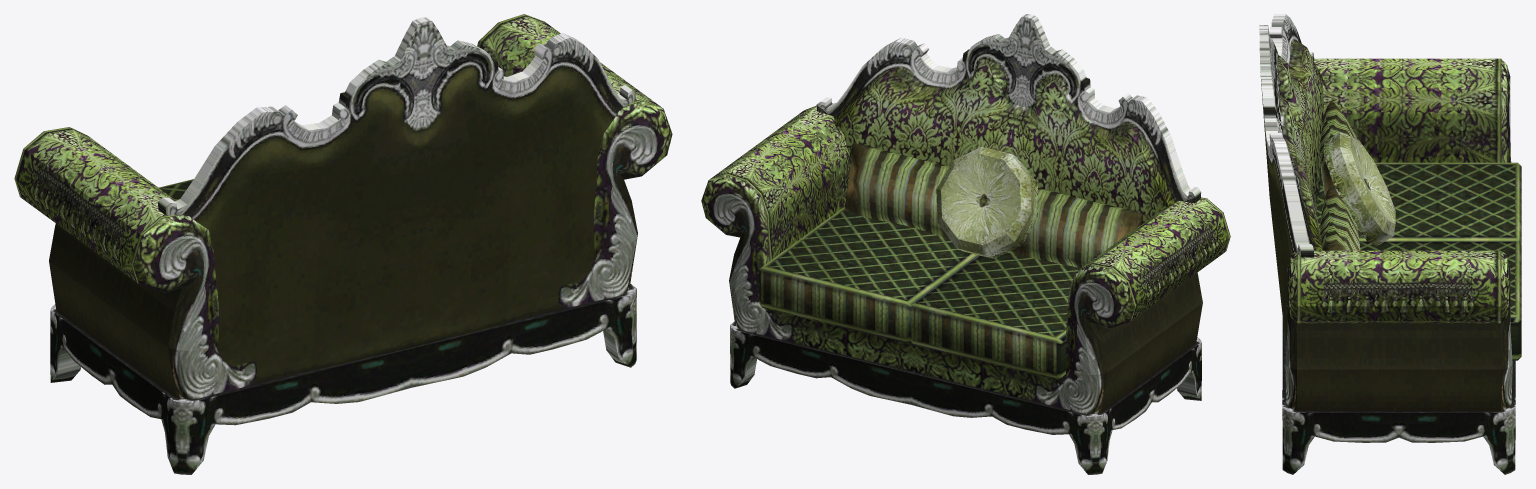
File: furni_0201209_03.FBX
3 views of the same model, side by side, from view 1: azimuth 30°, elevation 25°; view 2: azimuth 150°, elevation 25°; view 3: azimuth 270°, elevation 25° (orthographic). The views are drawn at different scales.
Visible parts, largest first — view 1: furni_0201209_03; view 2: furni_0201209_03; view 3: furni_0201209_03.
Boxes of the visible parts, x1,y1,x2,y2 form: furni_0201209_03: (14,14,672,474); furni_0201209_03: (701,14,1230,474); furni_0201209_03: (1259,14,1521,474).
Size of the model in its own units: 158 by 115 by 77.62.
